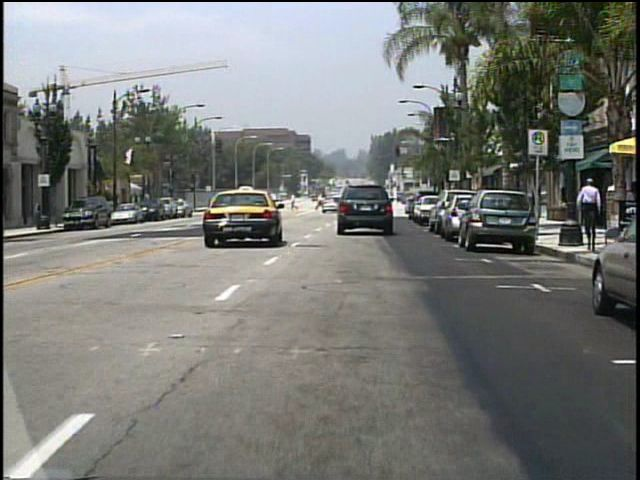person: (577, 177, 602, 233), (289, 192, 300, 213), (315, 192, 326, 212)
